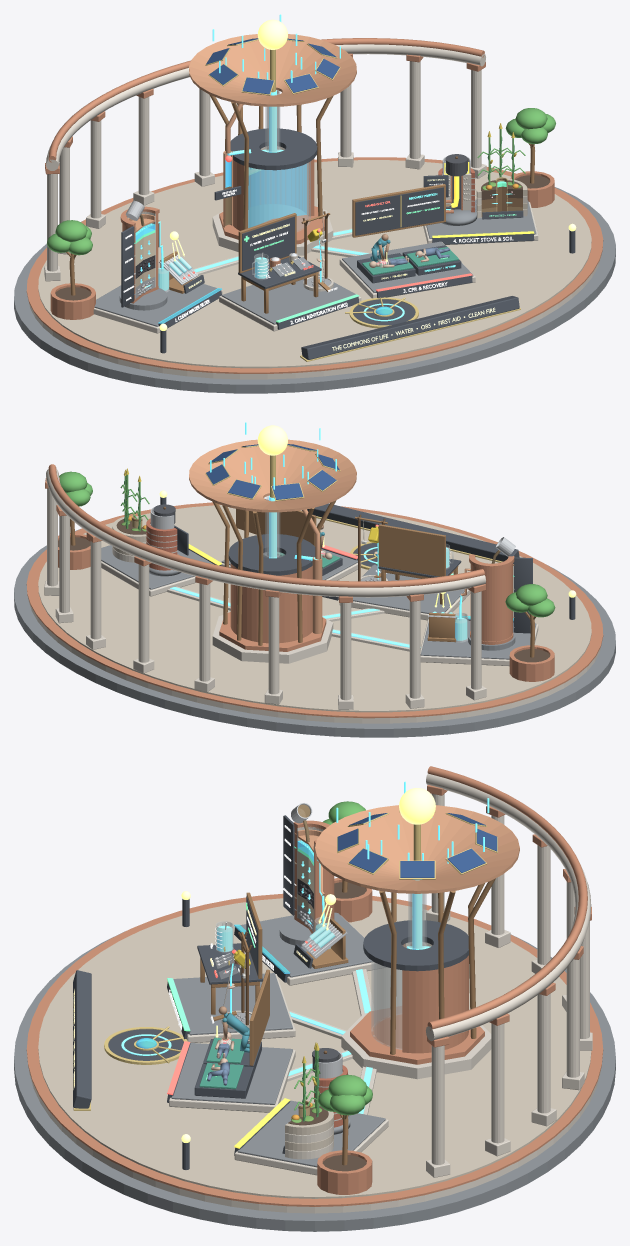
Rendered from commons_of_life.glb.
3 renders of one model, top to bottom at view 1: azimuth 30°, elevation 25°; view 2: azimuth 150°, elevation 25°; view 3: azimuth 270°, elevation 25°, orthographic. The views are drawn at different scales.
Visible parts, largest first — view 1: Plaza_MainFloor, Plaza_Step1, Rain_Canopy_Funnel, Plaza_Rim_Terracotta, Cistern_GlassFront, Plaza_Step2, Front_Title_Plinth, Colonnade_Architrave, FA_BackBoard_Slate, Cistern_CleanWater, St2_ORS_TopTrim, Cistern_TopRing (+36 smaller); view 2: Plaza_MainFloor, Plaza_Step1, Rain_Canopy_Funnel, Plaza_Rim_Terracotta, Colonnade_Architrave, Colonnade_Cornice, Plaza_Step2, Cistern_BackWall, ORS_BackBoard_Frame, Cistern_TopRing, BSF_OuterShell, Front_Title_Plinth (+32 smaller); view 3: Plaza_MainFloor, Plaza_Step1, Rain_Canopy_Funnel, Plaza_Rim_Terracotta, Colonnade_Architrave, Cistern_BackWall, Plaza_Step2, Colonnade_Cornice, Cistern_TopRing, St2_ORS_TopTrim, St3_FirstAid_TopTrim, Tower_BaseRim (+35 smaller).
Part boxes in pixels (x1,y1,x2,y2): Plaza_MainFloor: [38, 160, 591, 368]; Plaza_Step1: [14, 187, 615, 393]; Rain_Canopy_Funnel: [189, 34, 356, 106]; Plaza_Rim_Terracotta: [26, 157, 603, 373]; Cistern_GlassFront: [248, 161, 310, 231]; Plaza_Step2: [29, 254, 601, 379]; Front_Title_Plinth: [301, 296, 519, 359]; Colonnade_Architrave: [46, 44, 485, 170]; FA_BackBoard_Slate: [355, 187, 443, 235]; Cistern_CleanWater: [248, 163, 306, 227]; St2_ORS_TopTrim: [221, 274, 355, 324]; Cistern_TopRing: [230, 128, 317, 170]; Plaza_MainFloor: [38, 505, 591, 712]; Plaza_Step1: [14, 529, 615, 737]; Rain_Canopy_Funnel: [189, 439, 356, 512]; Plaza_Rim_Terracotta: [26, 502, 603, 718]; Colonnade_Architrave: [46, 469, 485, 597]; Colonnade_Cornice: [48, 464, 484, 587]; Plaza_Step2: [28, 599, 600, 723]; Cistern_BackWall: [230, 563, 312, 643]; ORS_BackBoard_Frame: [378, 524, 445, 576]; Cistern_TopRing: [228, 534, 315, 575]; BSF_OuterShell: [470, 564, 512, 641]; Front_Title_Plinth: [302, 503, 519, 563]; Plaza_MainFloor: [38, 898, 591, 1198]; Plaza_Step1: [14, 931, 615, 1231]; Rain_Canopy_Funnel: [315, 805, 519, 893]; Plaza_Rim_Terracotta: [26, 893, 603, 1206]; Colonnade_Architrave: [426, 773, 591, 1041]; Cistern_BackWall: [402, 944, 468, 1053]; Plaza_Step2: [29, 1070, 600, 1213]; Colonnade_Cornice: [427, 766, 587, 1030]; Cistern_TopRing: [363, 920, 468, 971]; St2_ORS_TopTrim: [173, 973, 292, 1035]; St3_FirstAid_TopTrim: [171, 1043, 292, 1104]; Tower_BaseRim: [350, 1006, 484, 1064].
Size of the model in its own units: 11.68 by 4.66 by 9.11.
